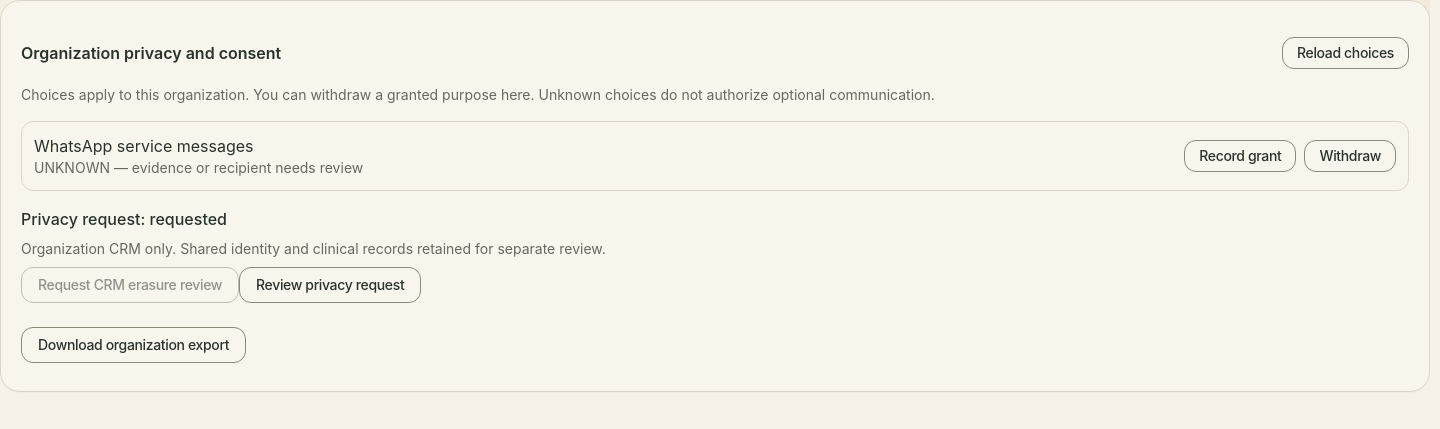
it: Patient privacy workflows › downloads truthful export pages and continues only resources with remaining records
Click the button "Download organization export": (134, 345) [21,327,246,363]
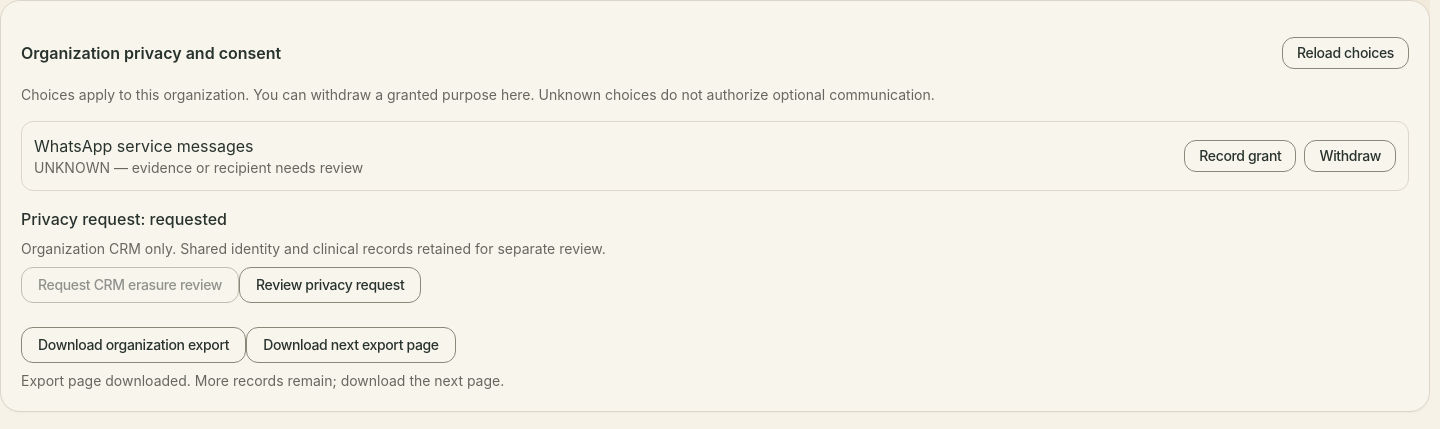
Click the button "Download next export page": (351, 345) [246,327,456,363]
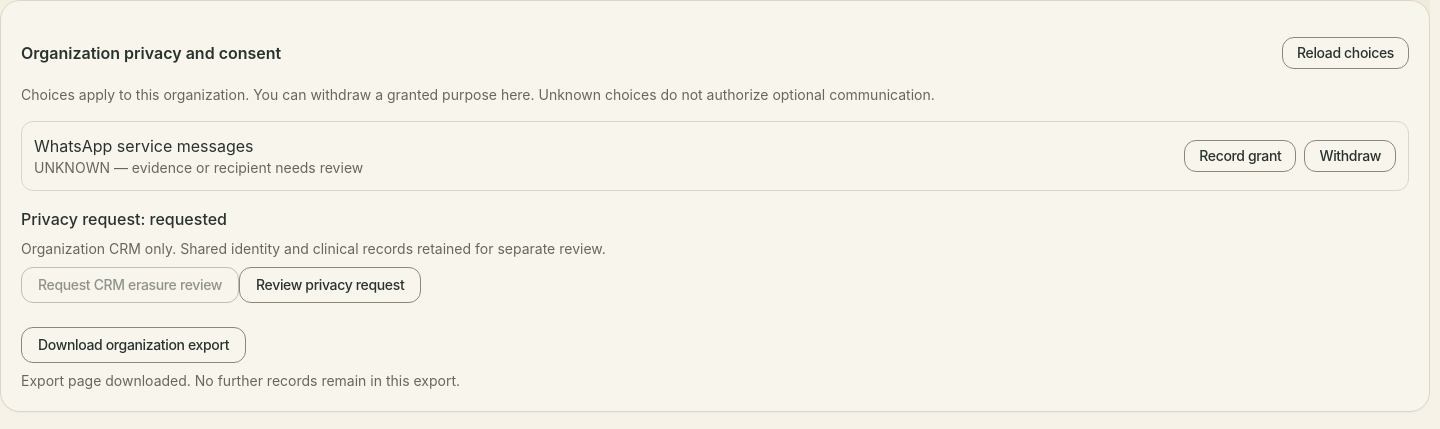
Expected: the text "Export page downloaded. No further records remain in this export." is shown, [21,372,460,389]
Expected: the button "Download next export page" is gone
